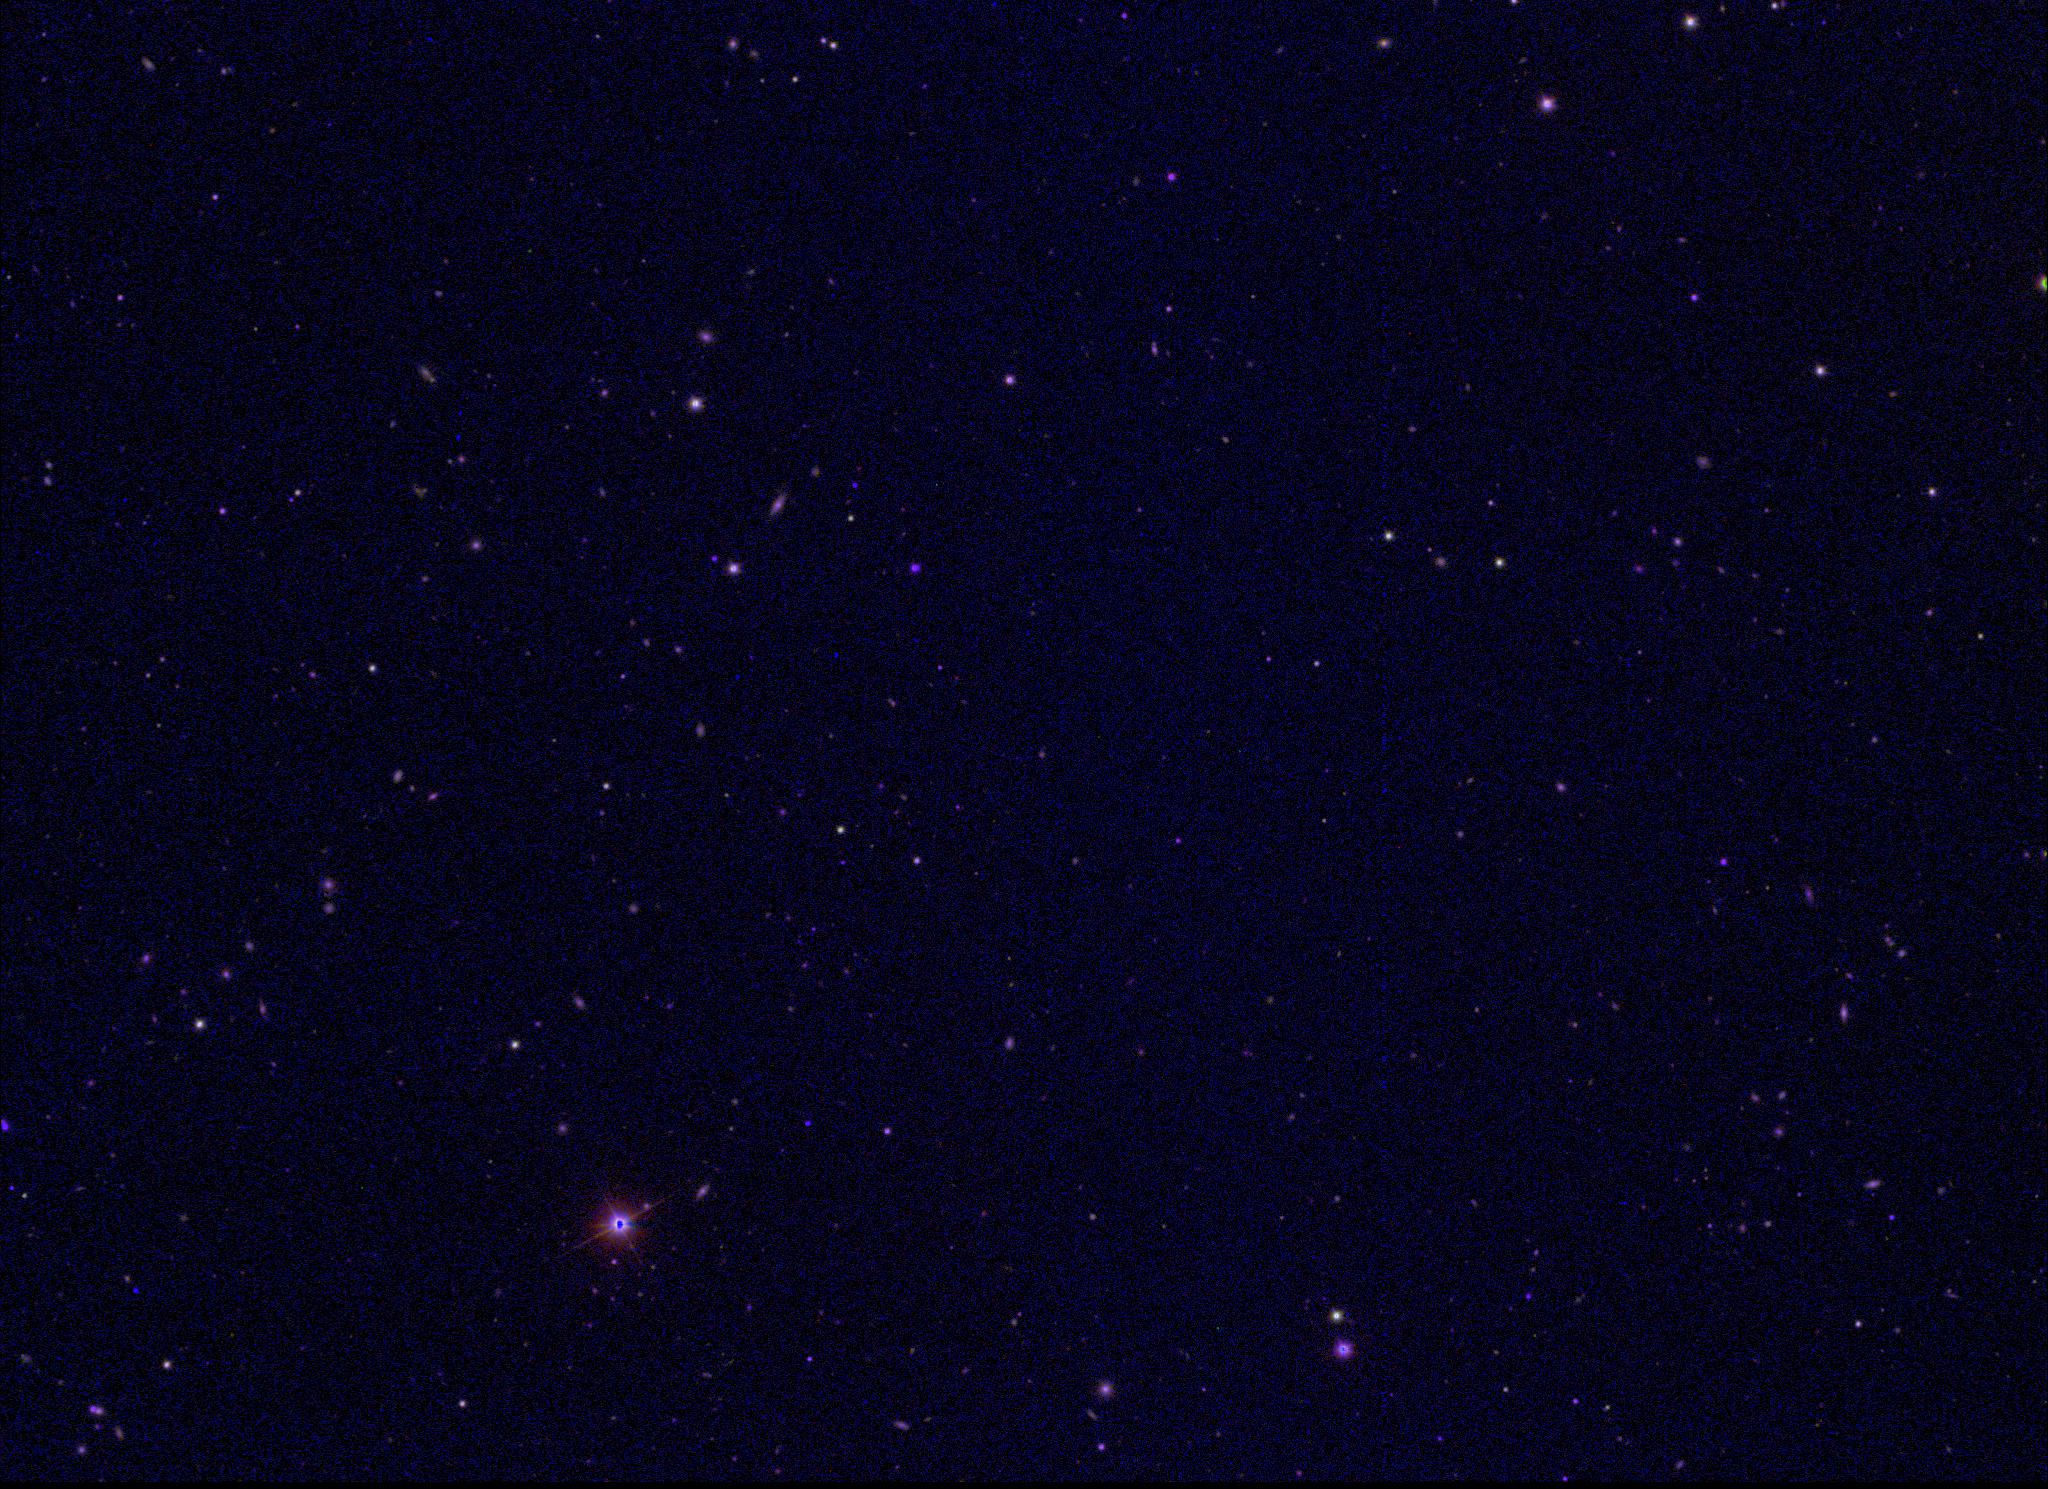L: (129, 1284, 143, 1297)
